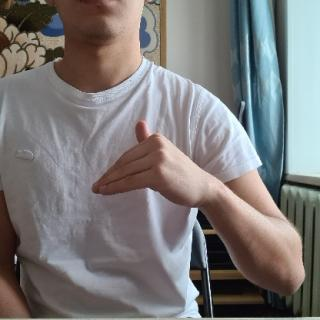KHAA: (90, 117, 222, 216)
